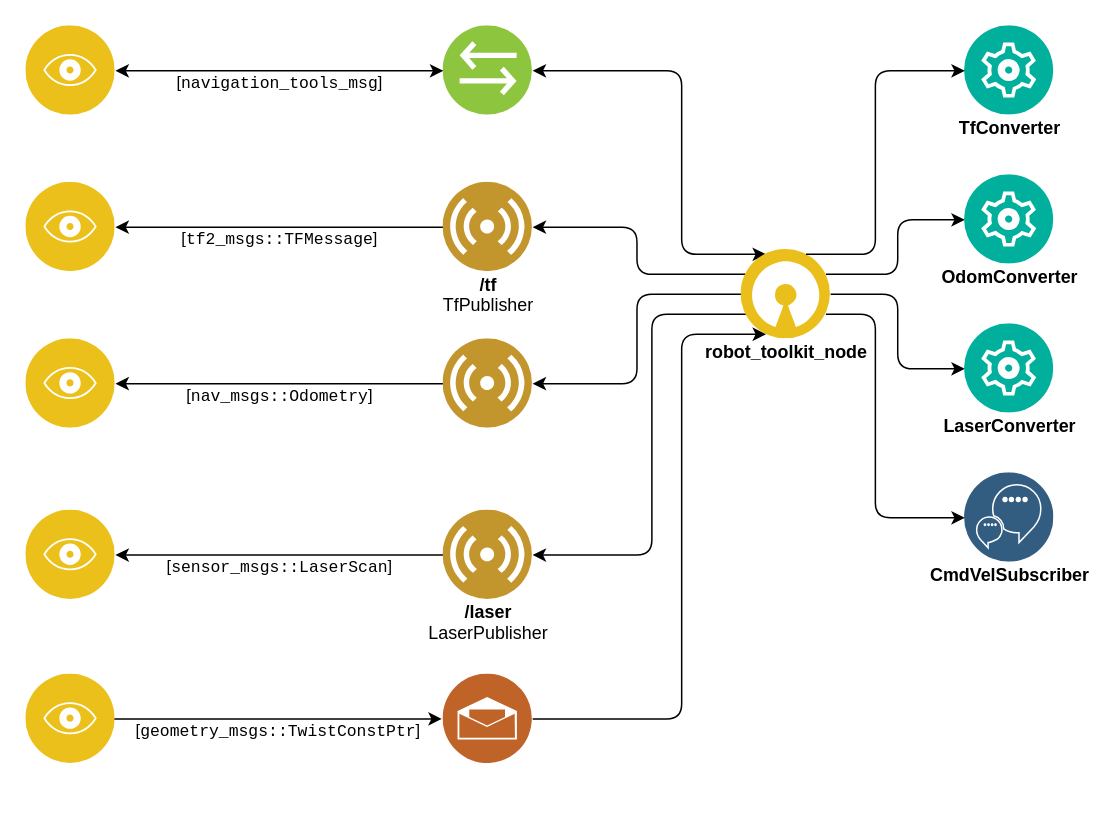
Image size: 1115x834. Some labels were removed from this diagram. Here are the shapes that lost their labels. From the top down, the box of each, then its label:
(443, 25, 532, 115): /robot_tookit/navigation_tools_service RobotToolkit::navigationToolsSrv
(443, 338, 532, 428): /odom OdomPublisher
(443, 673, 532, 763): /cmd_vel CmdVelSubscriber
